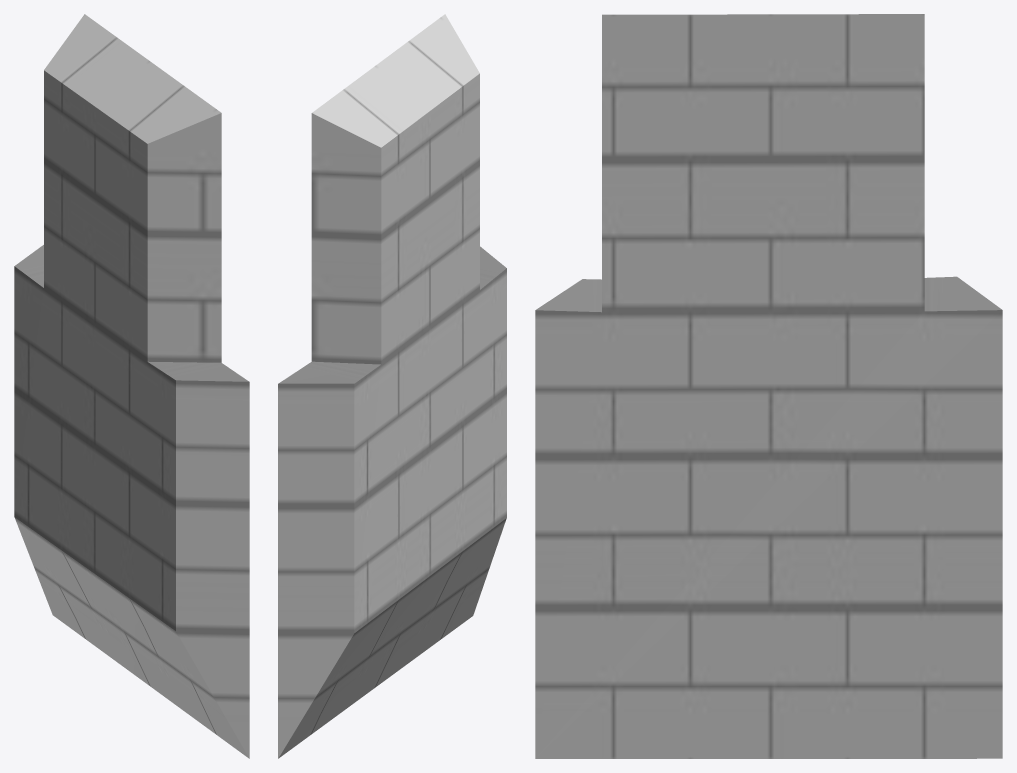
The model's file is vs-fortress-battlement.glb.
The picture shows the model from 3 angles, left to right: view 1: azimuth 30°, elevation 25°; view 2: azimuth 150°, elevation 25°; view 3: azimuth 270°, elevation 25°; orthographic projection. The views are drawn at different scales.
Visible parts, largest first — view 1: VsFortressBattlement; view 2: VsFortressBattlement; view 3: VsFortressBattlement.
Boxes of the visible parts, box(x1,y1,x2,y2) form: VsFortressBattlement: box(14, 14, 249, 758); VsFortressBattlement: box(278, 14, 506, 758); VsFortressBattlement: box(535, 14, 1002, 758).
Bounding box in the file's own units: 0.1698 × 1.75 × 0.9974.
1 material, 1 textured.
